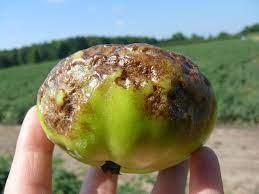tomato late blight: (36, 44, 219, 182)
